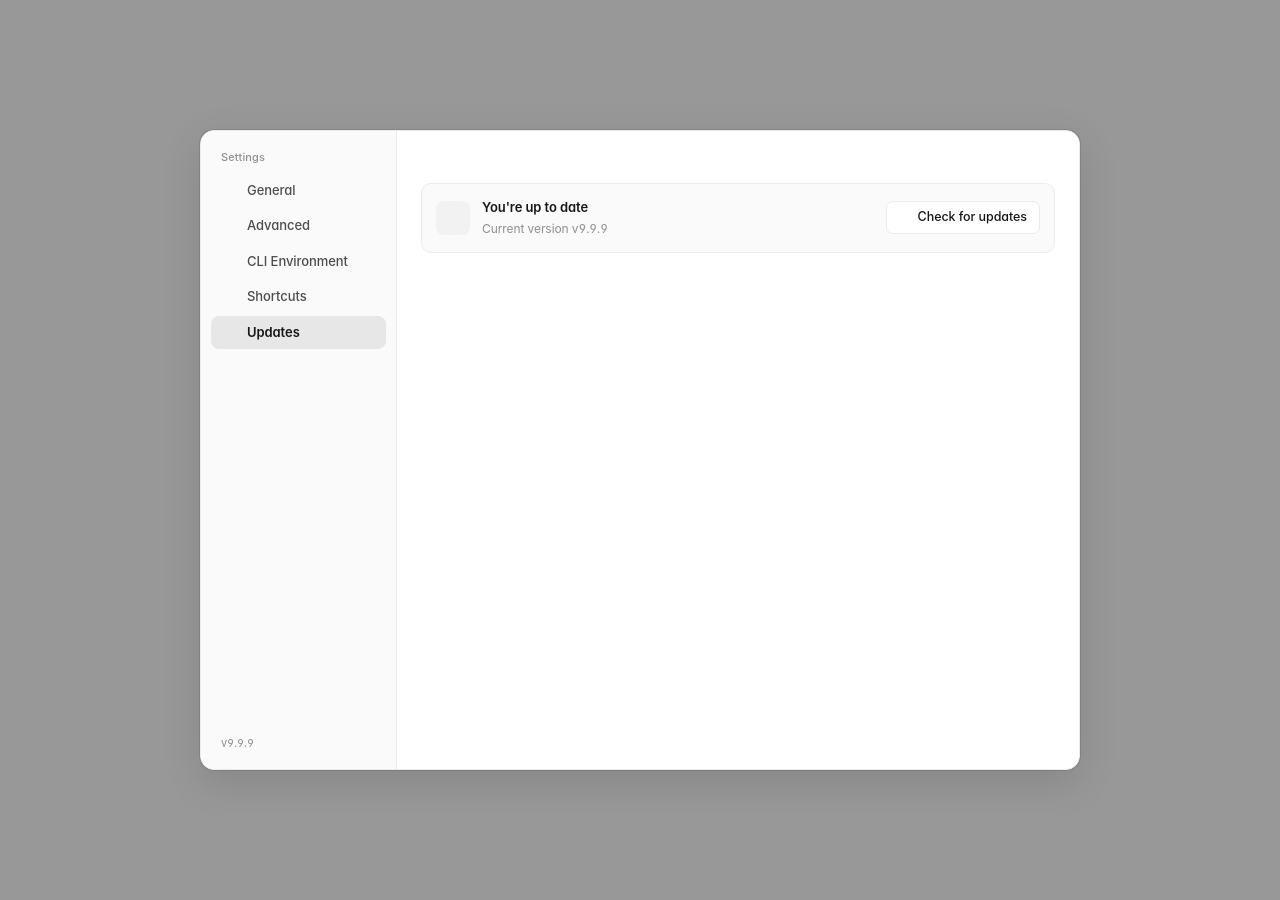
Test: SettingsModal › surfaces a failed update check
Click the button "Check for updates".
click(963, 218)  # box [886,201,1040,234]
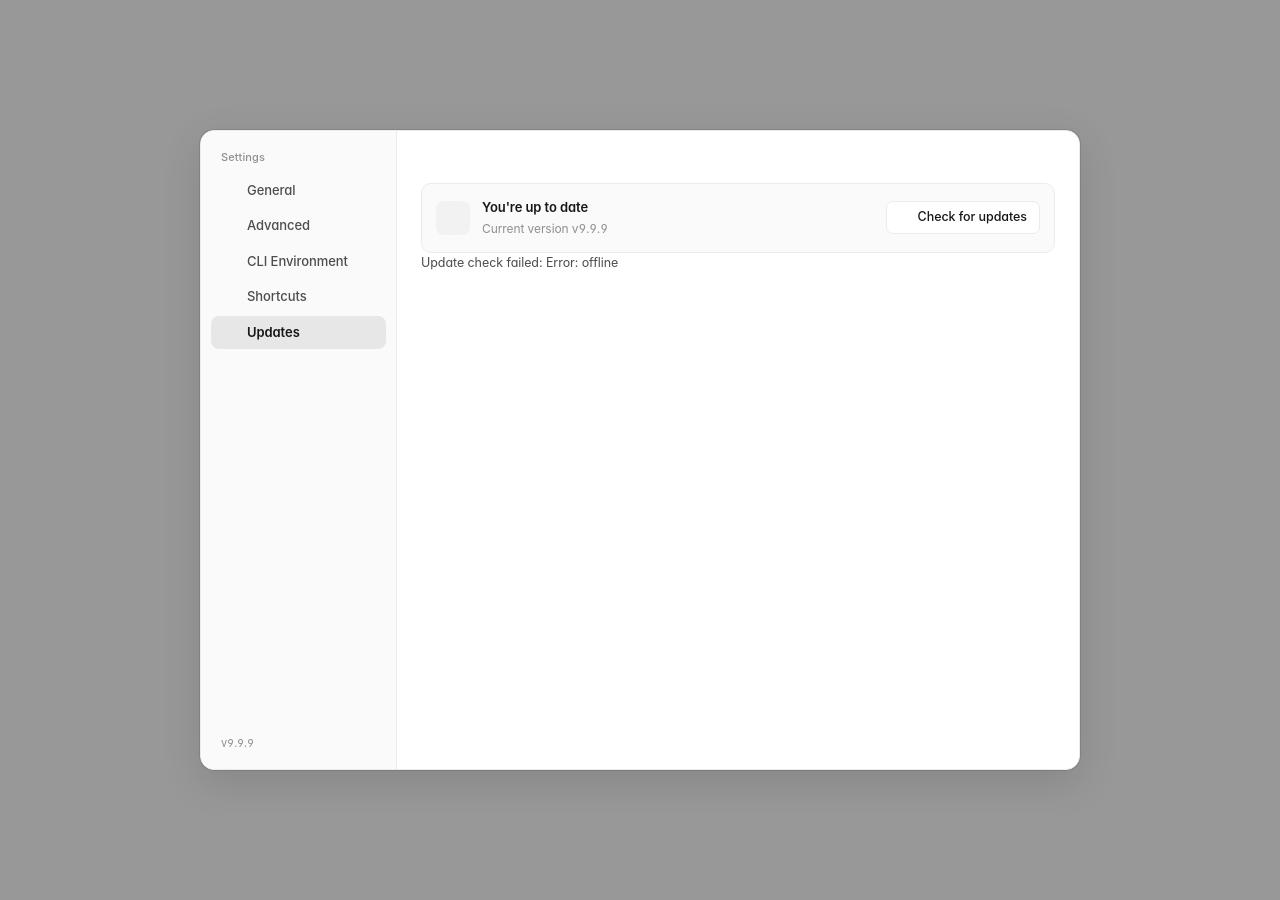
expect the text "Update check failed" is shown: met, box [421,254,618,270]
